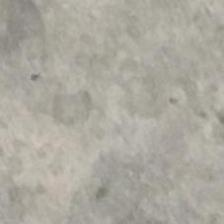Non_Crack: (15, 30, 224, 200)
